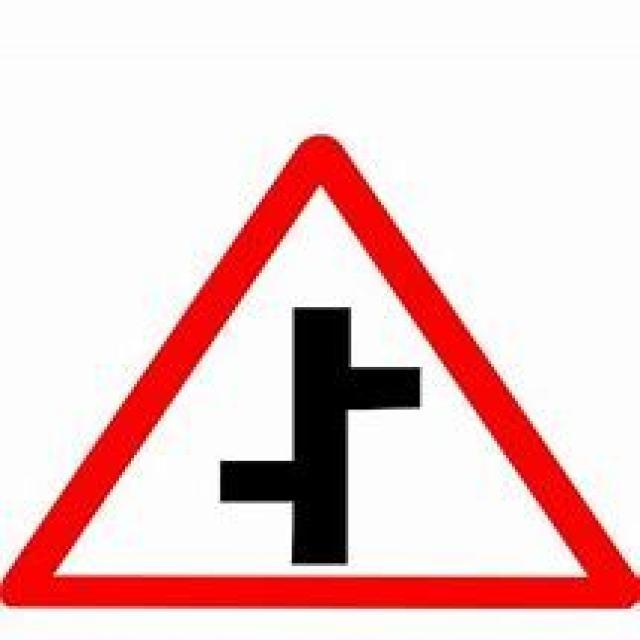staggered intersection: (19, 134, 618, 608)
